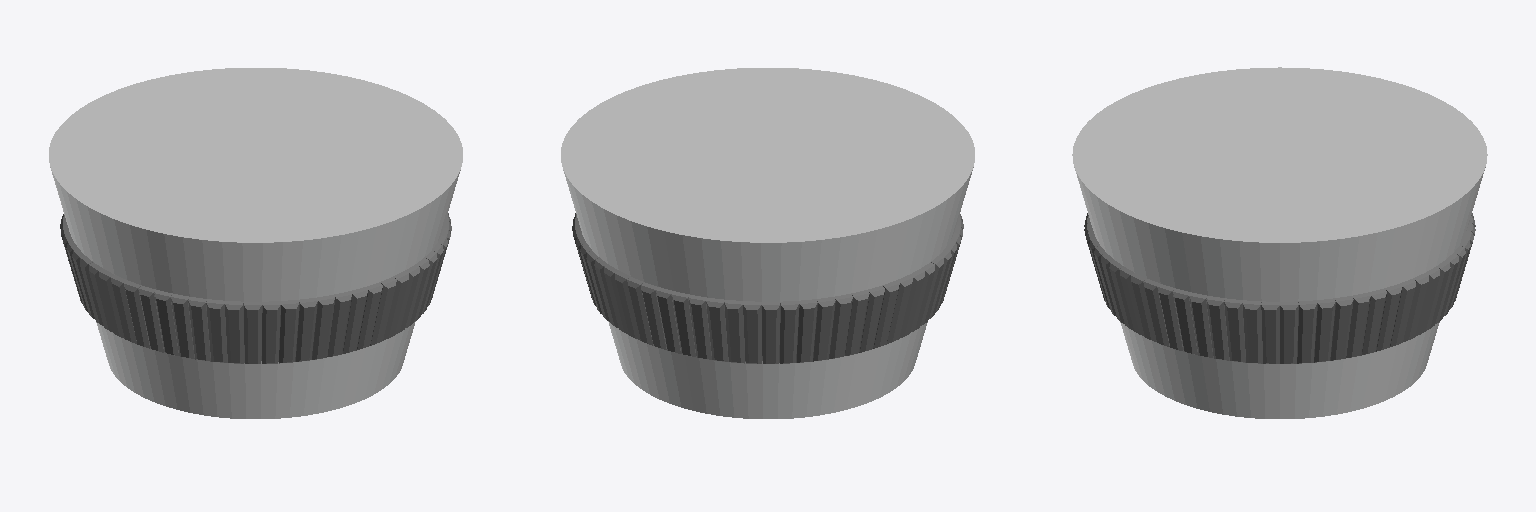
3 views of the same model, side by side, from view 1: azimuth 30°, elevation 25°; view 2: azimuth 150°, elevation 25°; view 3: azimuth 270°, elevation 25° (orthographic).
Visible parts, largest first — view 1: Col-6_Cylinder.002, Col-23_Circle.004; view 2: Col-6_Cylinder.002, Col-23_Circle.004; view 3: Col-6_Cylinder.002, Col-23_Circle.004.
Boxes of the visible parts, x1=… form: Col-6_Cylinder.002: x1=50, y1=167, x2=460, y2=418; Col-23_Circle.004: x1=49, y1=68, x2=462, y2=242; Col-6_Cylinder.002: x1=563, y1=167, x2=973, y2=418; Col-23_Circle.004: x1=561, y1=68, x2=974, y2=242; Col-6_Cylinder.002: x1=1074, y1=167, x2=1485, y2=418; Col-23_Circle.004: x1=1072, y1=67, x2=1487, y2=242.
Size of the model in its own units: 14 by 7.5 by 14.
3 materials, 2 textured.